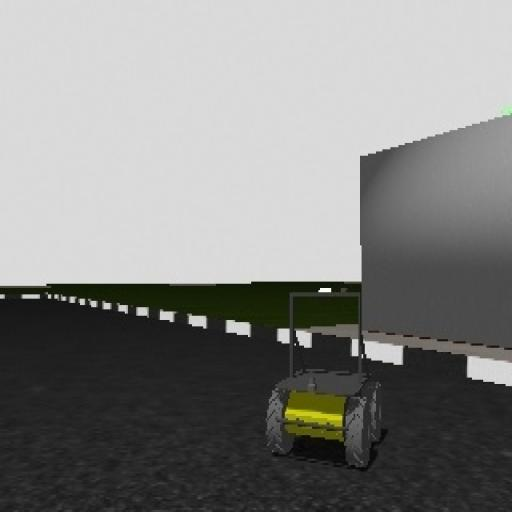huskya200: (258, 285, 386, 473)
